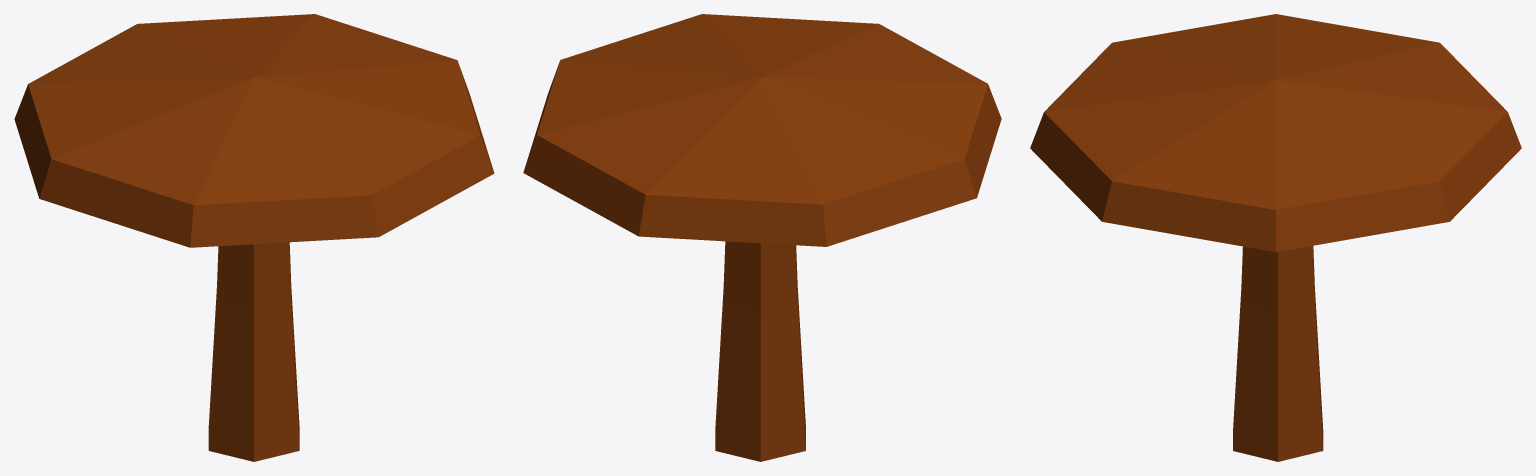
File: Mushroom_e_a_01.fbx
3 renders of one model, left to right at view 1: azimuth 30°, elevation 25°; view 2: azimuth 150°, elevation 25°; view 3: azimuth 270°, elevation 25°, orthographic.
Parts seen in each view (by area): view 1: Mushroom_e_a_01_LOD0; view 2: Mushroom_e_a_01_LOD0; view 3: Mushroom_e_a_01_LOD0.
Boxes of the visible parts, <box> form: Mushroom_e_a_01_LOD0: <box>14,14,494,461</box>; Mushroom_e_a_01_LOD0: <box>523,14,1001,461</box>; Mushroom_e_a_01_LOD0: <box>1030,14,1521,461</box>.
Size of what is drawn, in the model's own units: 15.46 by 12.47 by 15.46.
